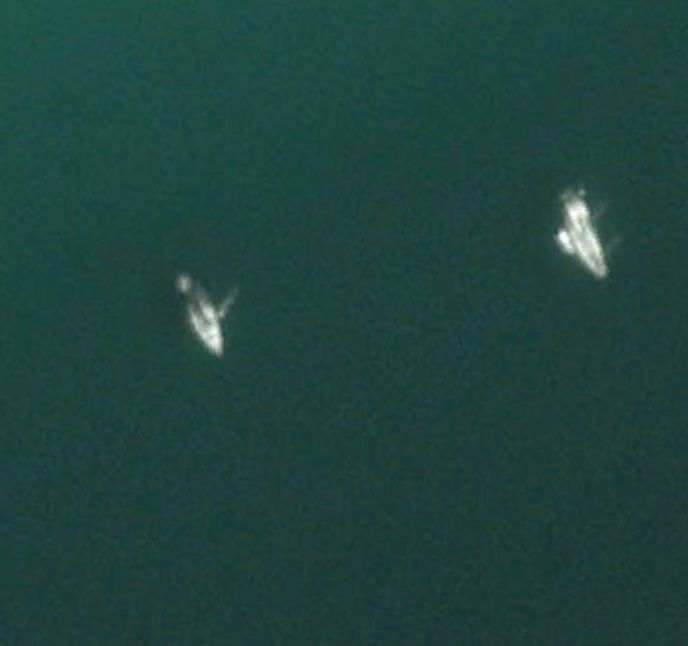boat: (553, 180, 610, 282), (171, 267, 228, 362)
